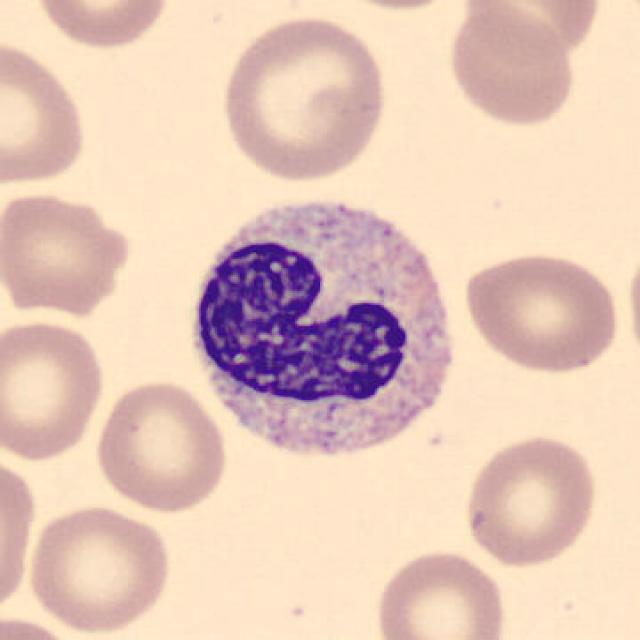Neutrophil: (176, 182, 469, 476)
RBC: (215, 10, 391, 184), (459, 247, 622, 375), (23, 499, 174, 636), (458, 430, 602, 570), (93, 377, 231, 515), (0, 187, 137, 319), (442, 2, 580, 128), (0, 315, 108, 463), (0, 33, 92, 192), (370, 545, 512, 640), (455, 0, 605, 60), (29, 0, 174, 53), (0, 448, 39, 620), (0, 612, 89, 640), (624, 235, 640, 378), (315, 0, 471, 14)
